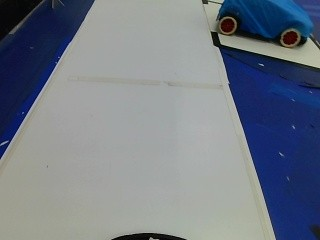car: (214, 0, 310, 49)
